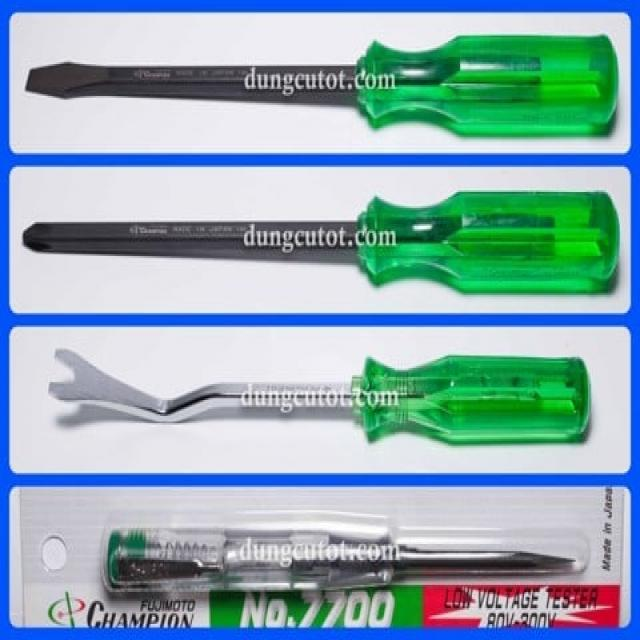screwdriver: (23, 31, 621, 140), (18, 189, 622, 296), (94, 510, 596, 590)
